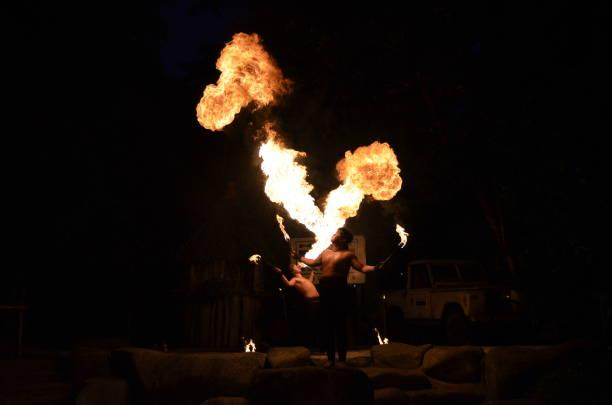Fire: (198, 19, 408, 225)
